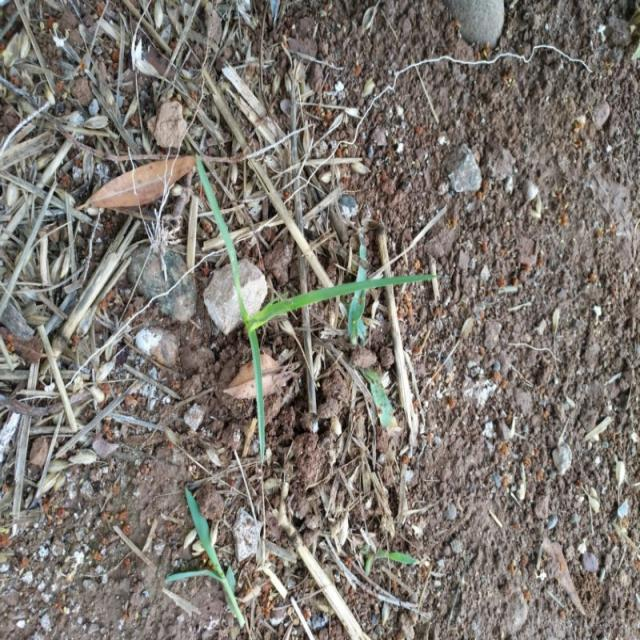sedge: (169, 158, 412, 459)
